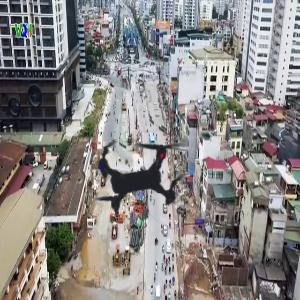drone: (59, 91, 223, 255)
